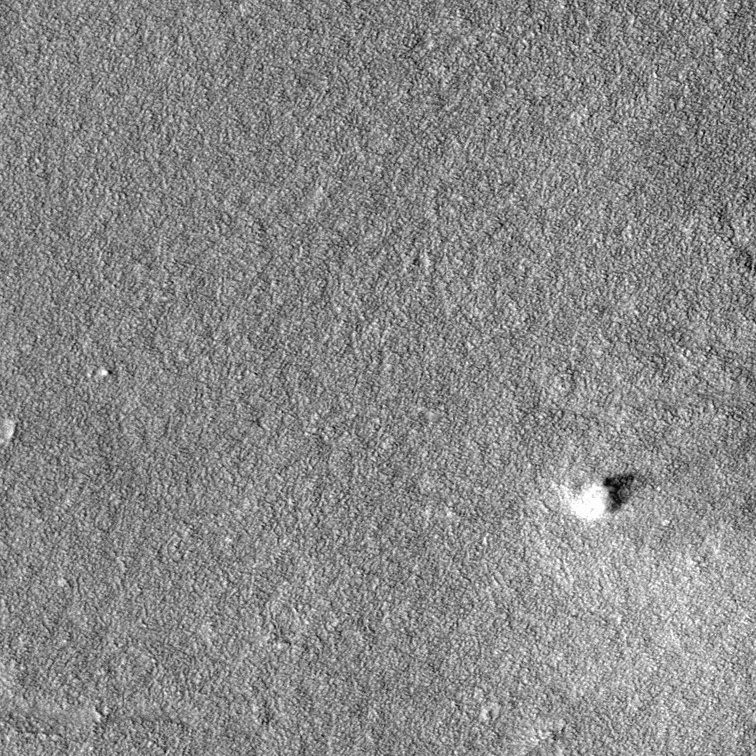dust_devil: (548, 469, 641, 525)
